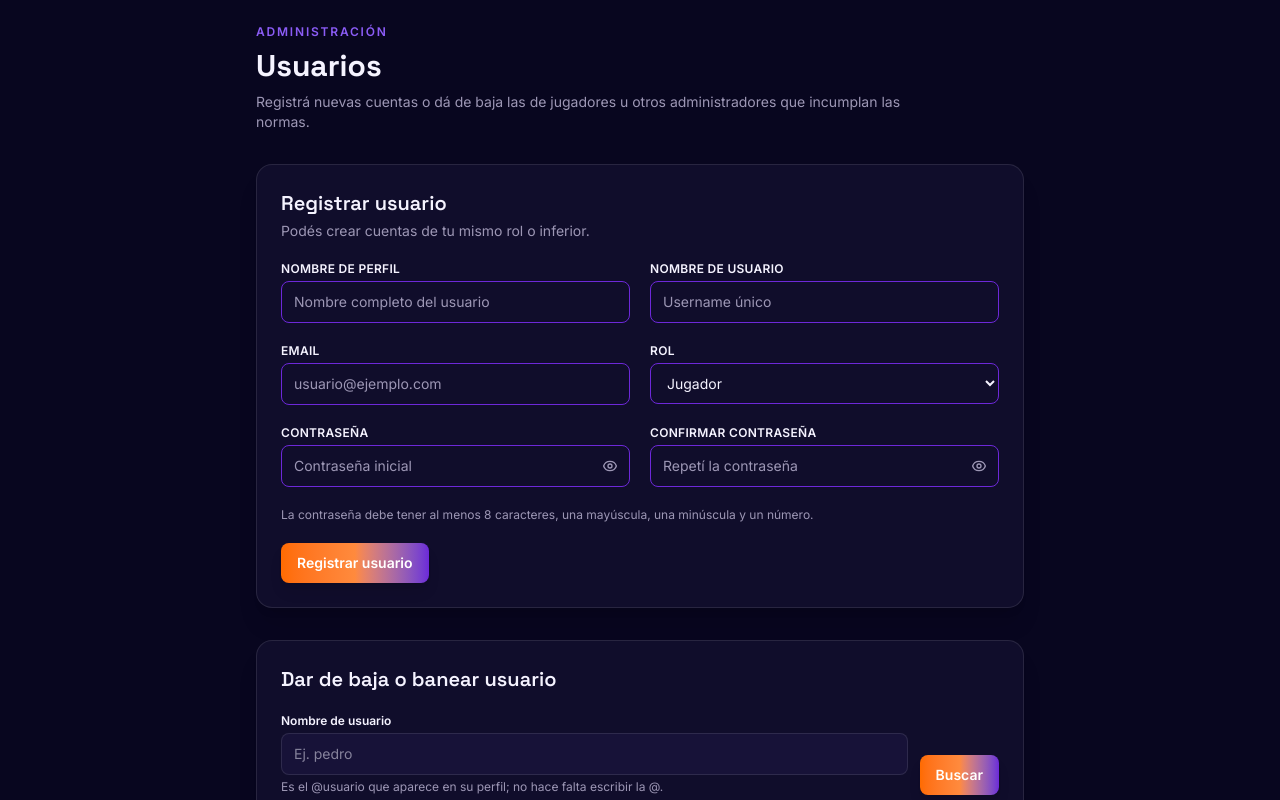
Test: UsuariosPage - US 50 Eliminar cuenta de usuario › busca por nombre de usuario, confirma la baja y muestra el aviso
This screenshot has width=1280, height=800.
Type "pedro" into the field labelled "Nombre de usuario" at (594, 754), box top-left (281, 733), bottom-right (908, 775)
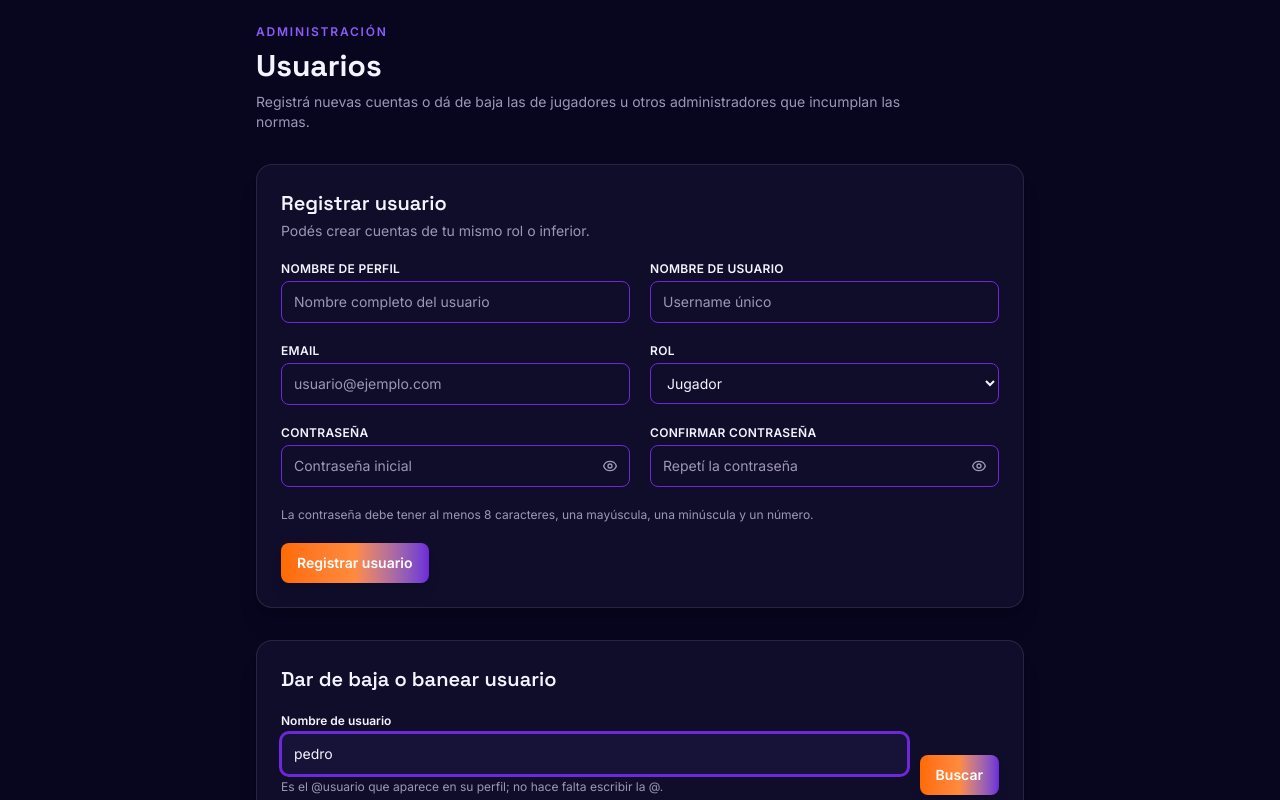
Click the button "Buscar" at (959, 775), box top-left (920, 755), bottom-right (999, 795)
(page scrolled)
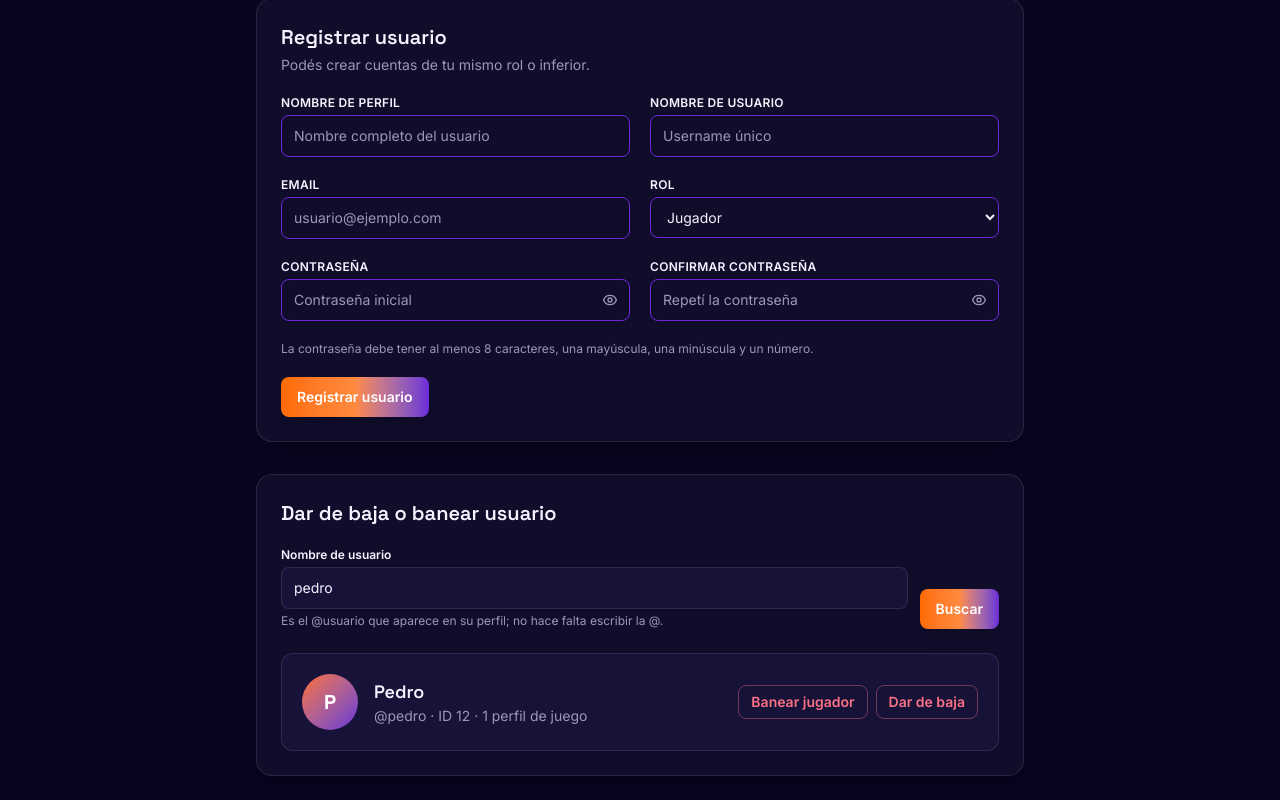
expect the text "@pedro · ID 12 · 1 perfil de juego" is shown: met, box top-left (374, 707), bottom-right (587, 724)
Click the button "Dar de baja" at (927, 702), box top-left (876, 685), bottom-right (978, 719)
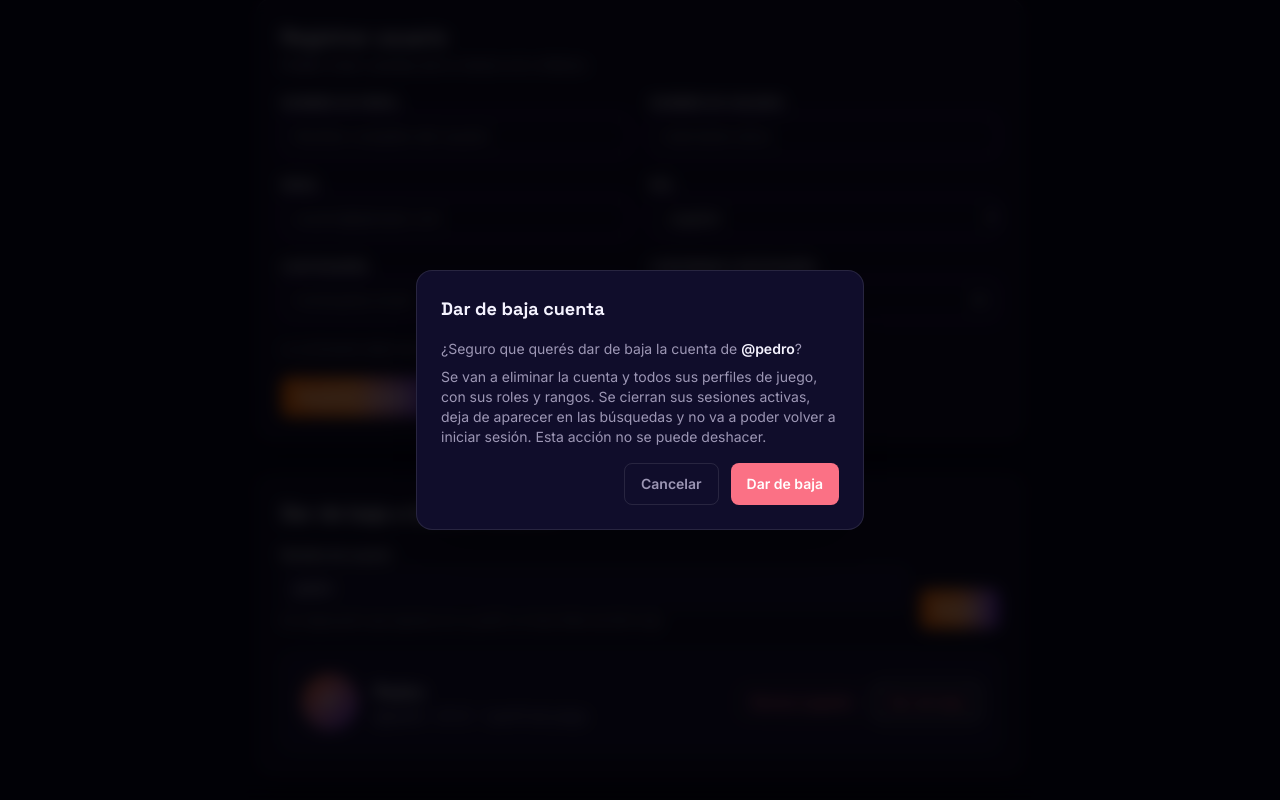
expect the dialog shows "perfiles de juego": met, box top-left (441, 368), bottom-right (836, 445)
Click the button "Dar de baja" at (785, 484), box top-left (731, 463), bottom-right (839, 505)
(page scrolled)
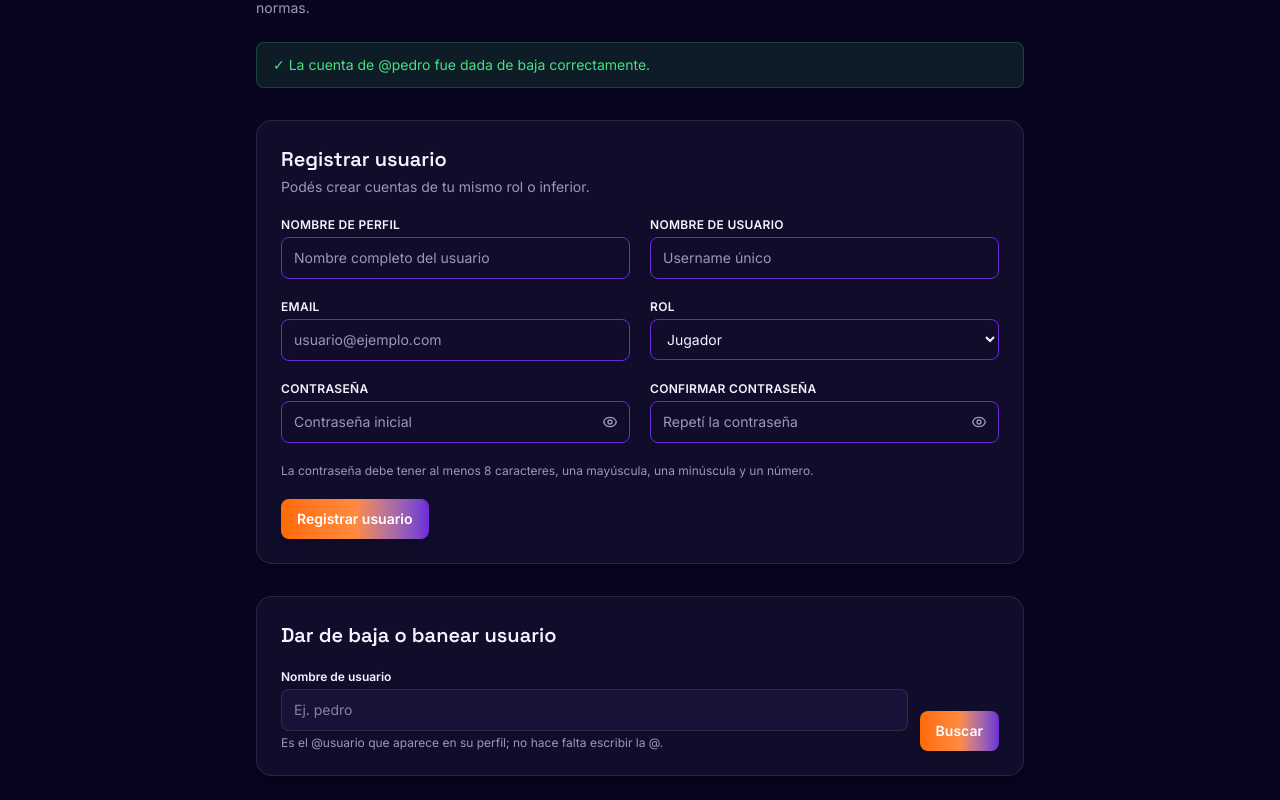
expect the text "✓ La cuenta de @pedro fue dada de baja correctamente." is shown: met, box top-left (273, 56), bottom-right (650, 73)
expect the text "@pedro · ID 12" is gone: met
